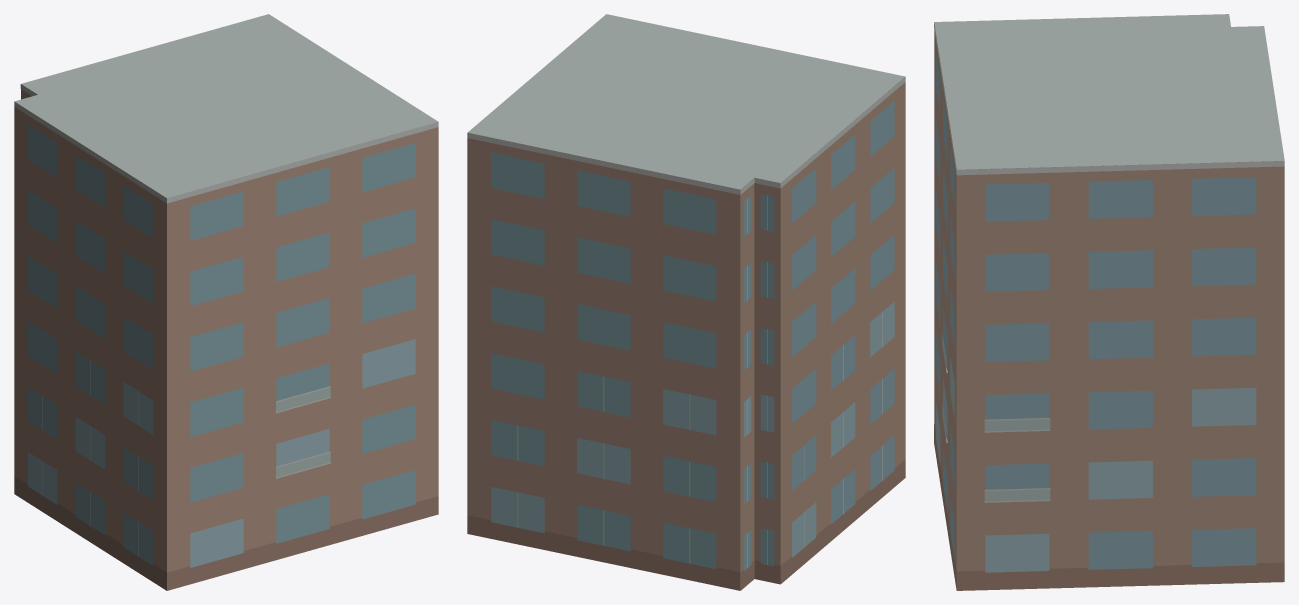
File: survey-upis-32743025.glb
The picture shows the model from 3 angles, left to right: view 1: azimuth 30°, elevation 25°; view 2: azimuth 150°, elevation 25°; view 3: azimuth 270°, elevation 25°; orthographic projection. The views are drawn at different scales.
Visible parts, largest first — view 1: survey-upis-32743025.tmp; view 2: survey-upis-32743025.tmp; view 3: survey-upis-32743025.tmp.
Boxes of the visible parts, bbox=[...] form: survey-upis-32743025.tmp: bbox=[14, 14, 438, 590]; survey-upis-32743025.tmp: bbox=[467, 14, 905, 590]; survey-upis-32743025.tmp: bbox=[934, 14, 1284, 590].
Bounding box in the file's own units: 14.52 × 18.3 × 13.82.
